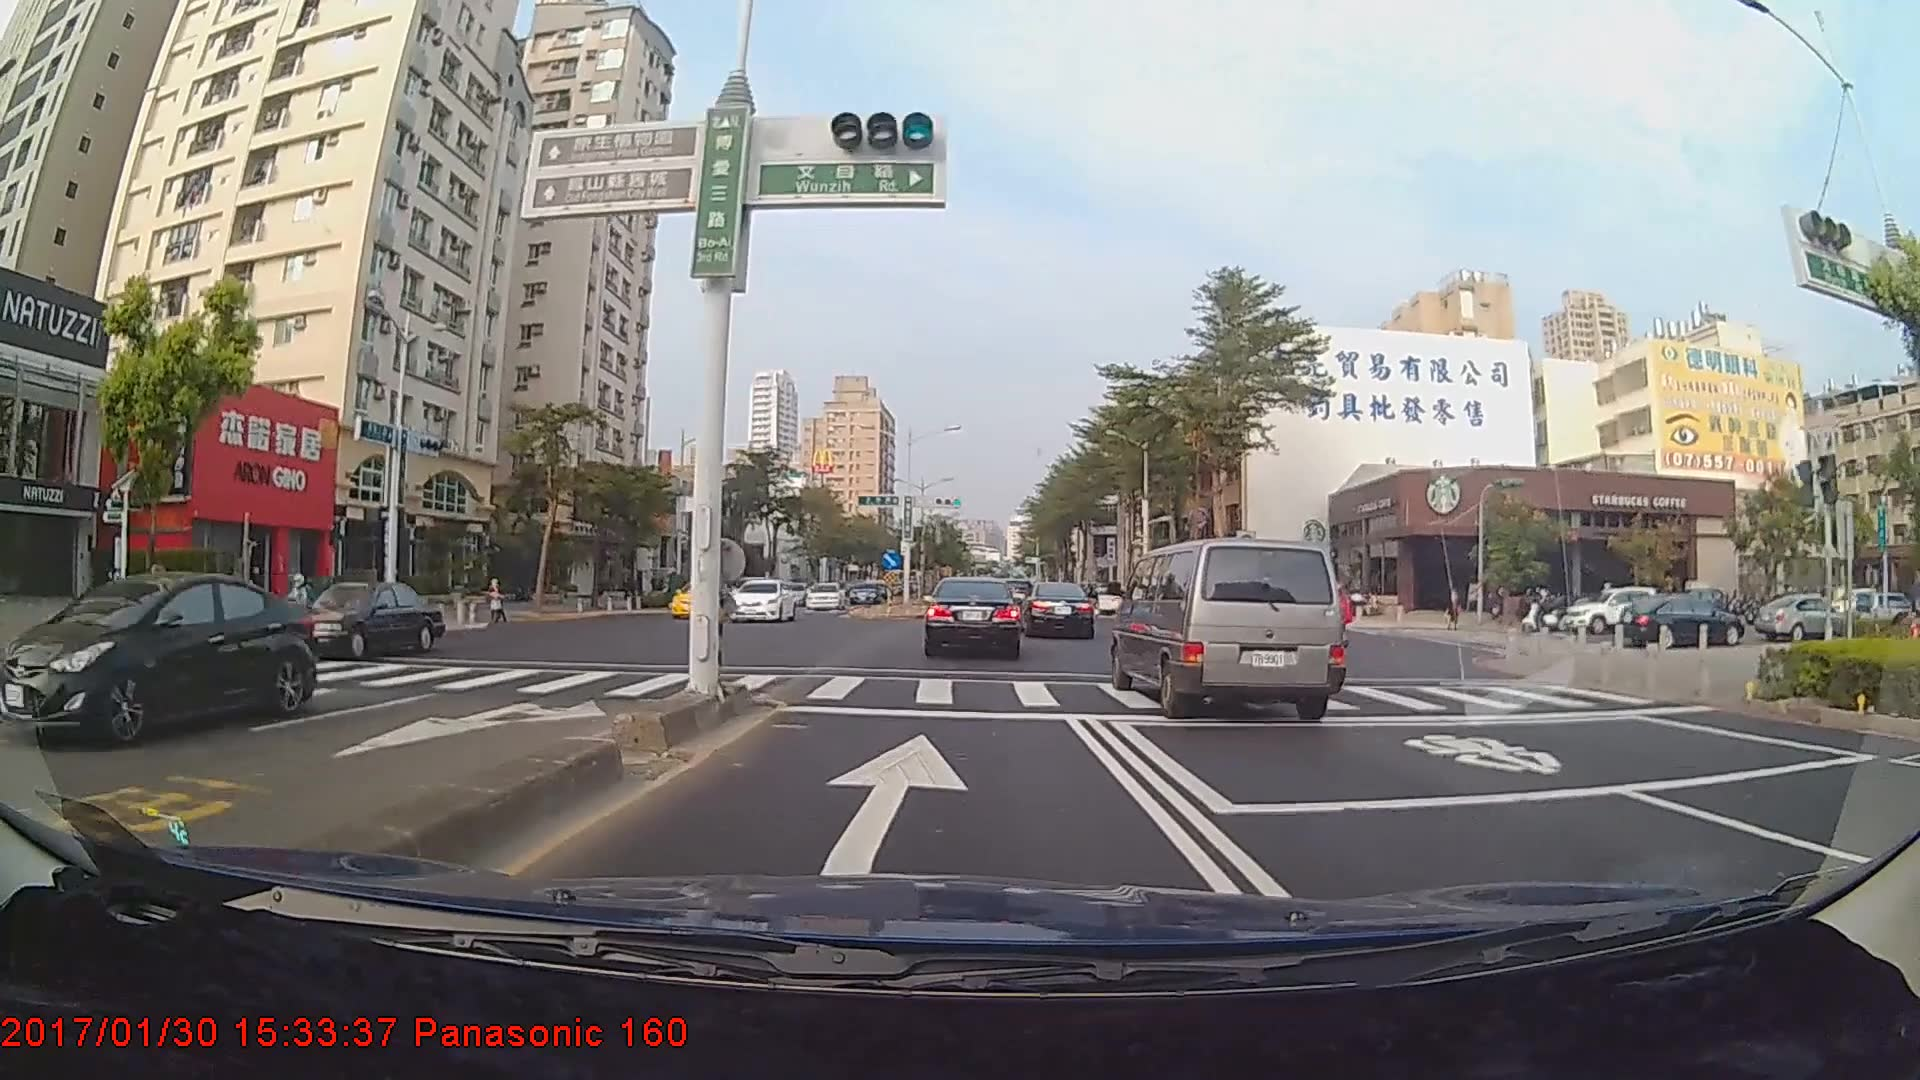rider: (120, 569, 180, 648), (1524, 584, 1569, 635)
vehicle: (0, 567, 318, 749), (1110, 534, 1346, 719), (277, 579, 440, 659), (1630, 582, 1758, 647), (922, 576, 1024, 658), (1751, 594, 1846, 642), (1020, 580, 1095, 640), (730, 575, 792, 621), (668, 577, 733, 619), (801, 580, 844, 610)
